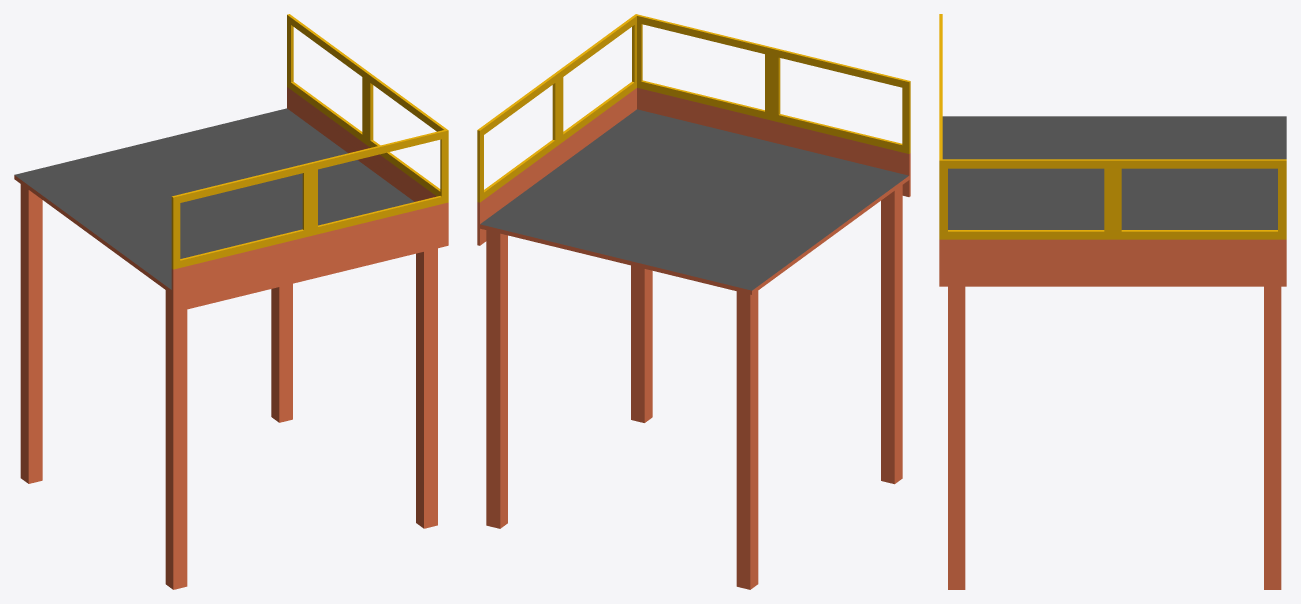
File: Prop_Industrial_Platform_Walkway_Wide_Corner_01.FBX
3 views of the same model, side by side, from view 1: azimuth 30°, elevation 25°; view 2: azimuth 150°, elevation 25°; view 3: azimuth 270°, elevation 25° (orthographic). The views are drawn at different scales.
Parts seen in each view (by area): view 1: Prop_Industrial_Platform_Walkway_Wide_Corner_01; view 2: Prop_Industrial_Platform_Walkway_Wide_Corner_01; view 3: Prop_Industrial_Platform_Walkway_Wide_Corner_01.
Boxes of the visible parts, left/top/right/bottom form: Prop_Industrial_Platform_Walkway_Wide_Corner_01: left=14, top=14, right=448, bottom=589; Prop_Industrial_Platform_Walkway_Wide_Corner_01: left=477, top=14, right=910, bottom=589; Prop_Industrial_Platform_Walkway_Wide_Corner_01: left=939, top=14, right=1286, bottom=589.
Size of the model in its own units: 4000 by 5500 by 4000.
